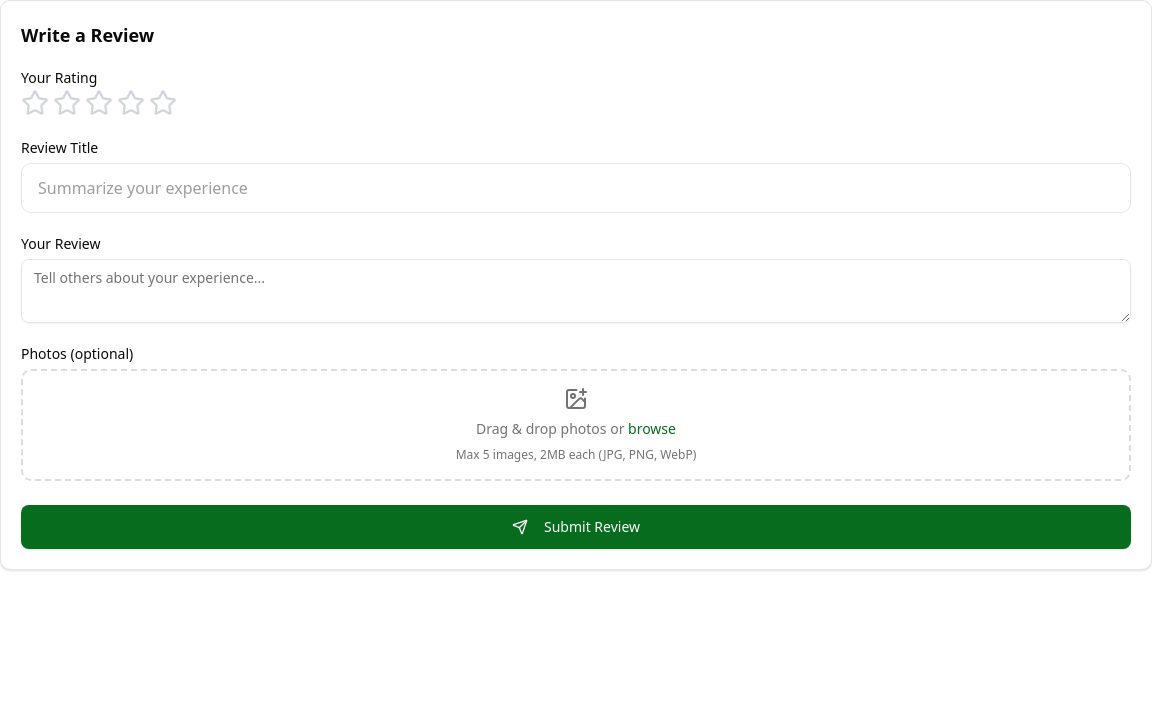
Test: ReviewForm › when user is authenticated and has not reviewed › shows rating error when submitting without rating
In the field labelled "Review Title": {"x": 576, "y": 188} [21, 163, 1131, 213], type "Test Title"
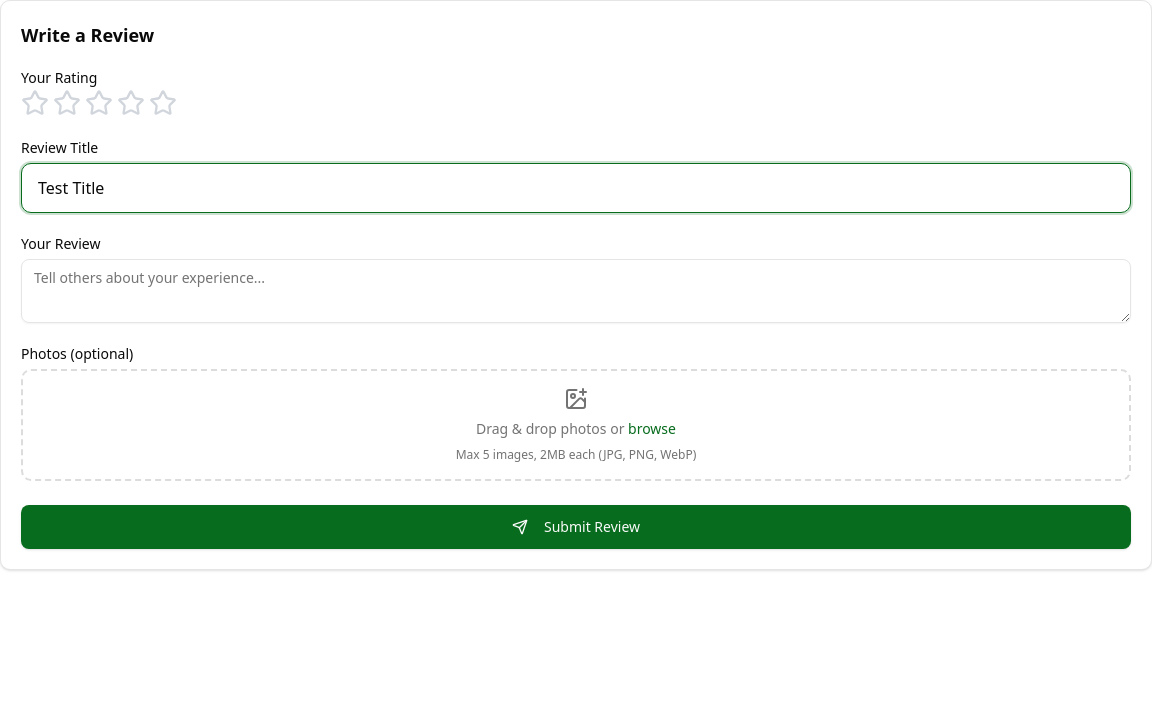
In the text box labelled "Your Review": {"x": 576, "y": 291} [21, 259, 1131, 323], type "This is a test review content long enough"
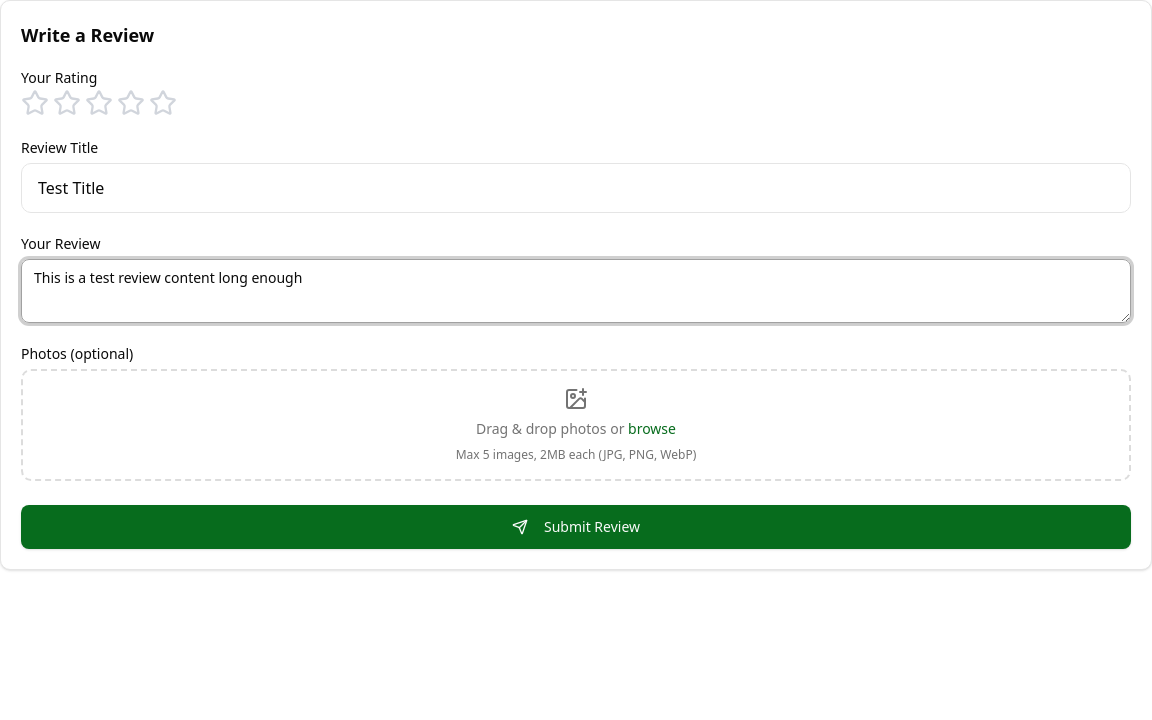
Click the button "Submit Review": {"x": 576, "y": 527} [21, 505, 1131, 549]
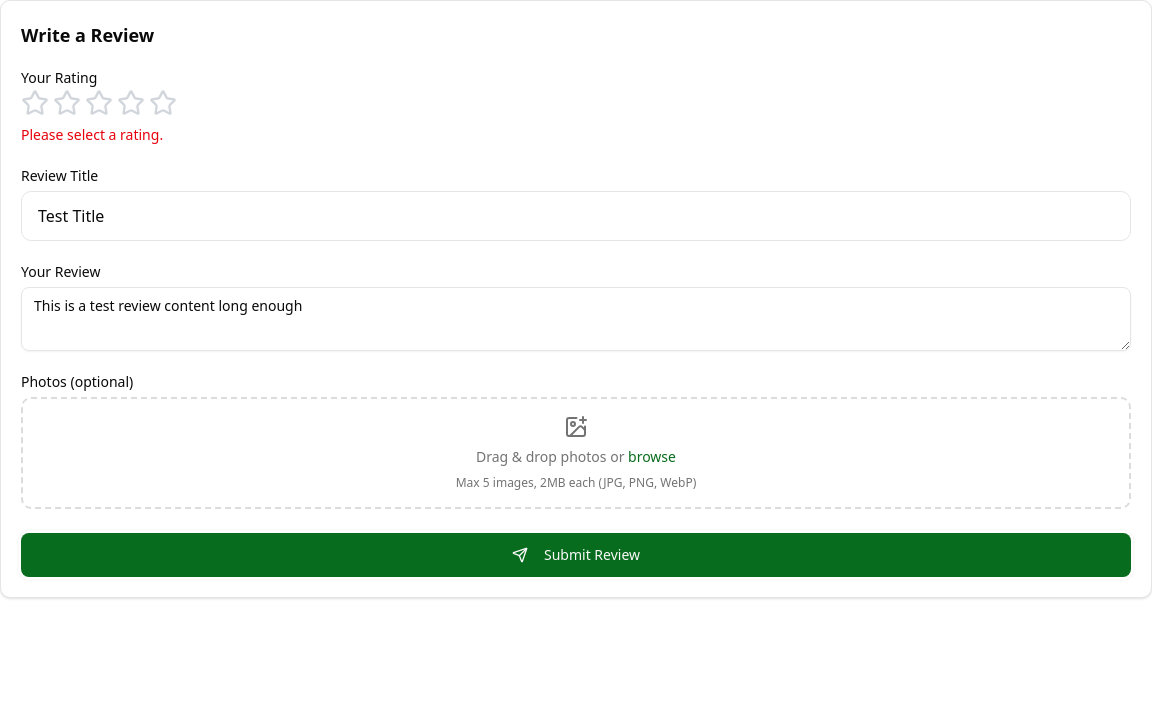
Now the text "Please select a rating." is shown, box [21, 125, 163, 144]
